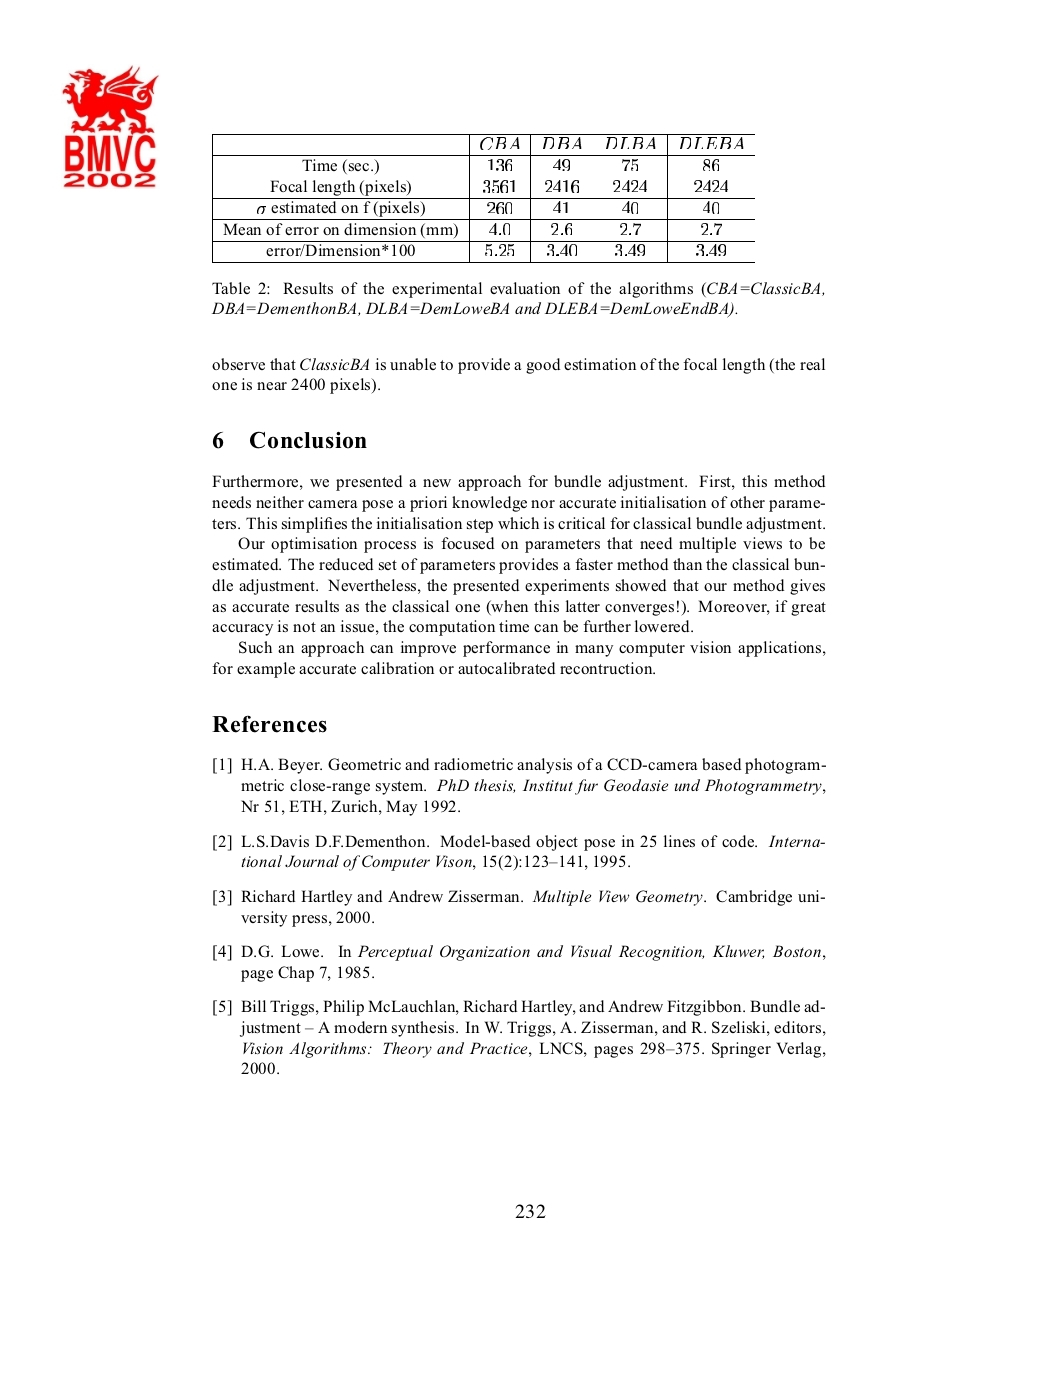Table: (212, 134, 755, 262)
figure: (61, 65, 158, 187)
